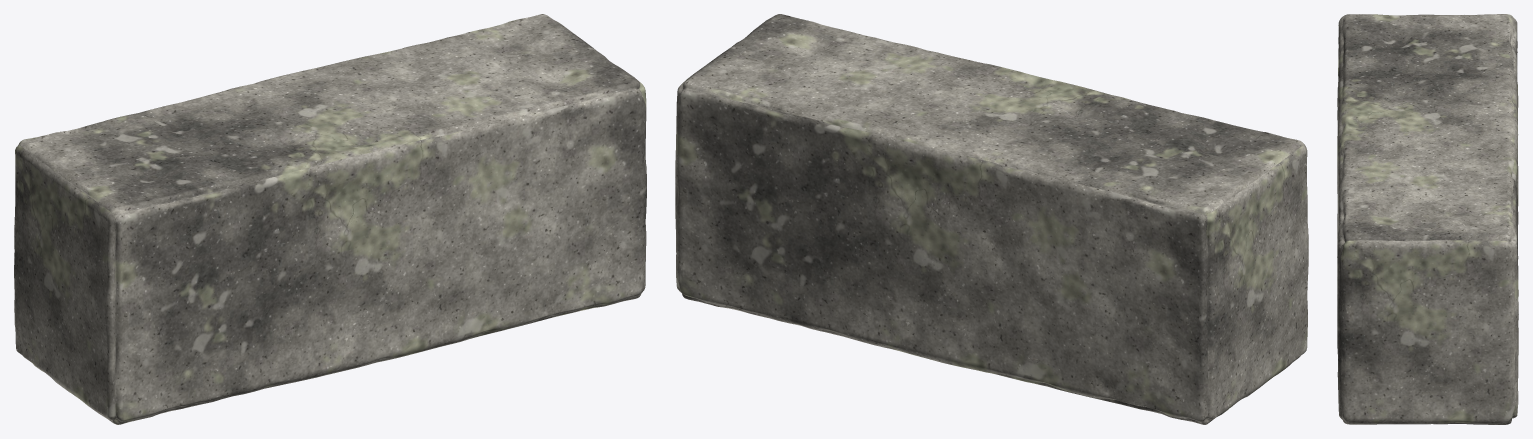
The model's file is stone_wall_block_large.glb.
3 views of the same model, side by side, from view 1: azimuth 30°, elevation 25°; view 2: azimuth 150°, elevation 25°; view 3: azimuth 270°, elevation 25° (orthographic). The views are drawn at different scales.
Visible parts, largest first — view 1: stone_wall_block_large; view 2: stone_wall_block_large; view 3: stone_wall_block_large.
Part boxes in pixels (left/top/right/bottom): stone_wall_block_large: left=14, top=14, right=646, bottom=424; stone_wall_block_large: left=675, top=14, right=1308, bottom=424; stone_wall_block_large: left=1337, top=14, right=1518, bottom=424.
Bounding box in the file's own units: 1.81 × 0.7059 × 0.6042.
Materials: 1 (1 with a texture image).
